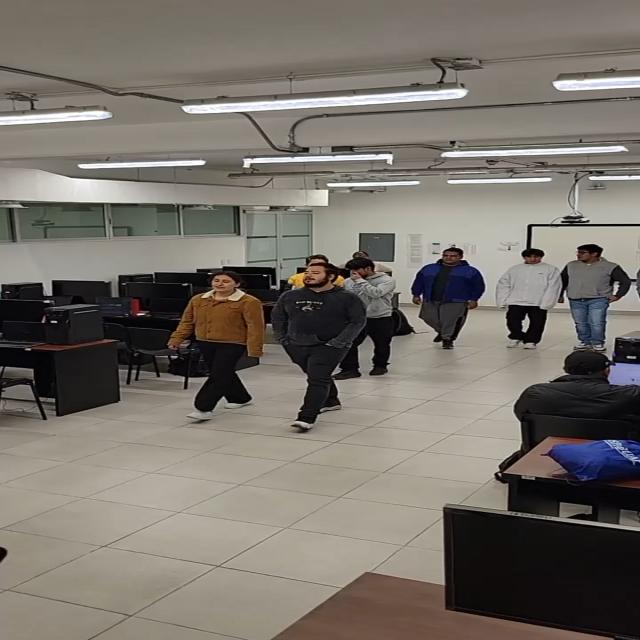Persona: (282, 264, 351, 420), (182, 271, 261, 406), (561, 245, 616, 349), (501, 247, 557, 346), (347, 257, 398, 365), (419, 248, 476, 340)
